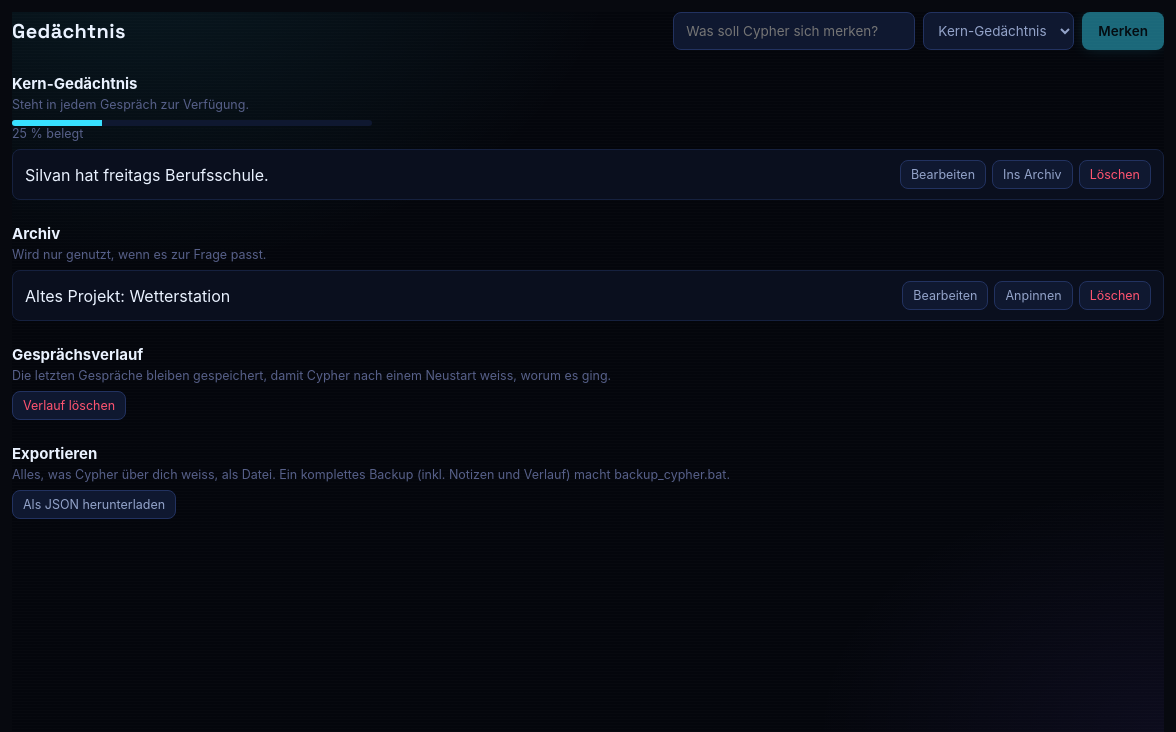
MemoryView (memory editor) › shows the backend's German error (core memory full)
Check: the text "Silvan hat freitags Berufsschule." is shown, box 25,164 -> 269,184
Type "Noch ein Fakt" into the field named "Neuer Eintrag".
click(794, 31); type("Noch ein Fakt")  # box 673,12 -> 915,50
Then press Enter
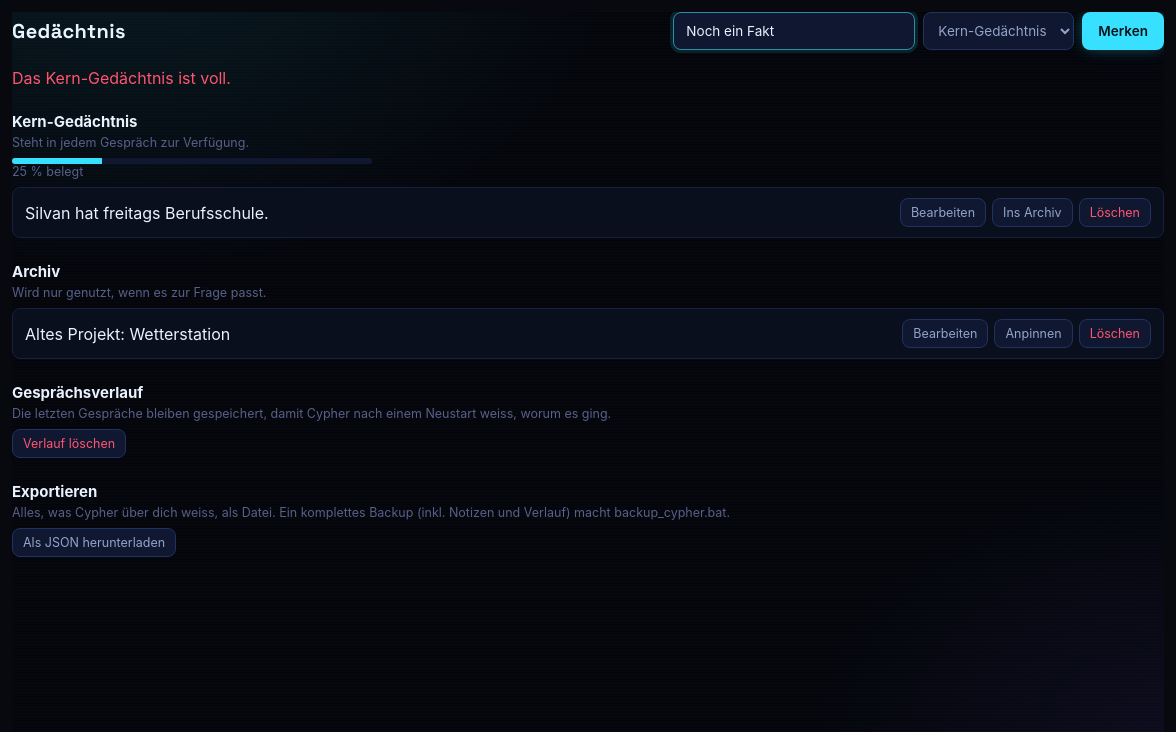
Check: the message reads "Das Kern-Gedächtnis ist voll.", box 12,68 -> 231,88
